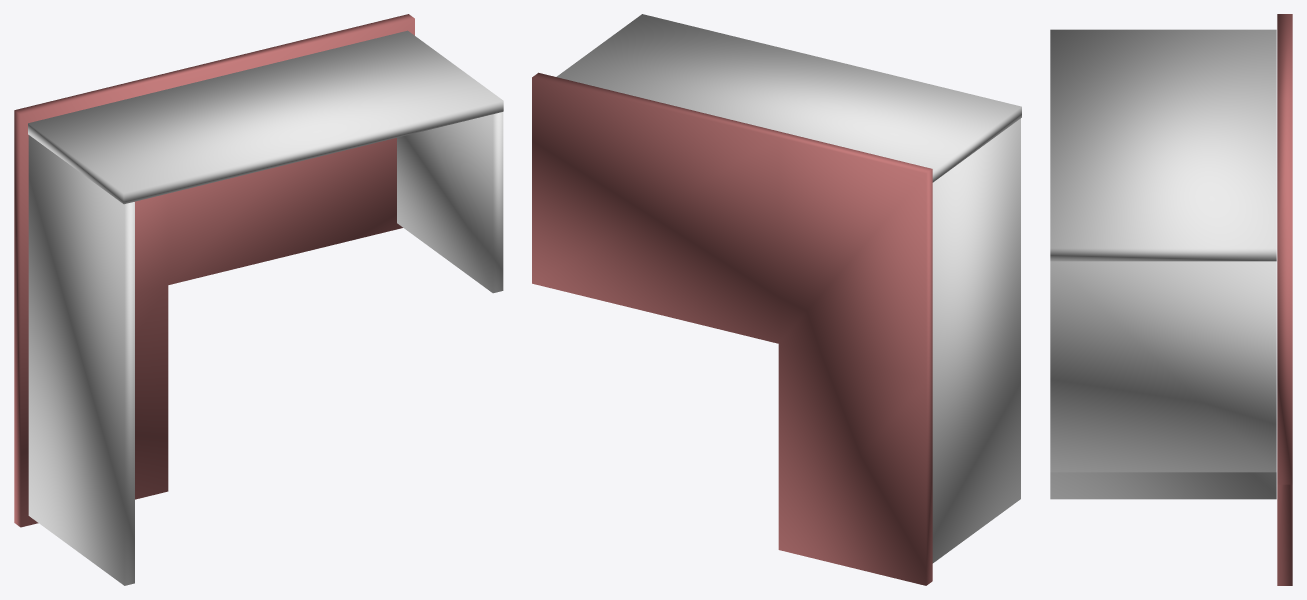
3 renders of one model, left to right at view 1: azimuth 30°, elevation 25°; view 2: azimuth 150°, elevation 25°; view 3: azimuth 270°, elevation 25°, orthographic. The views are drawn at different scales.
Visible parts, largest first — view 1: Cube.001; view 2: Cube.001; view 3: Cube.001.
Part boxes in pixels (x1=…): Cube.001: x1=14, y1=14, x2=503, y2=585; Cube.001: x1=532, y1=14, x2=1021, y2=585; Cube.001: x1=1050, y1=14, x2=1292, y2=585.
Size of the model in its own units: 160 by 160 by 72.1.
